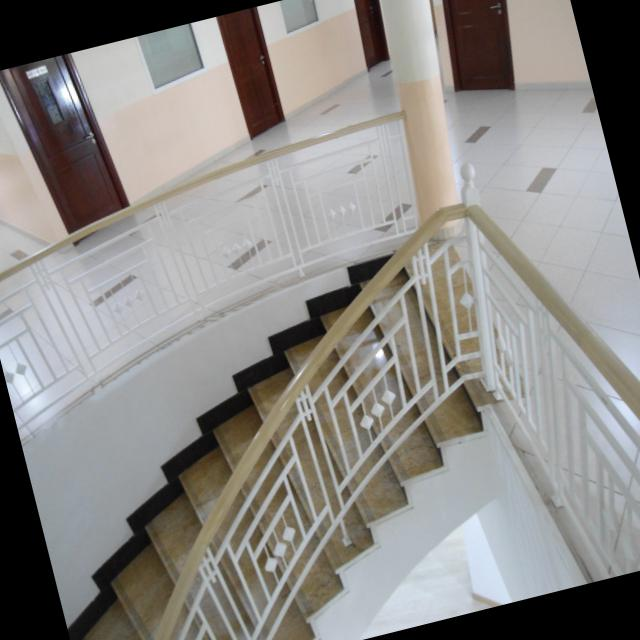door: (0, 46, 141, 260), (423, 0, 539, 106), (220, 6, 292, 145), (348, 0, 398, 75)
pillar: (367, 0, 483, 219)
railing: (32, 200, 558, 640), (0, 99, 457, 445), (443, 138, 640, 593)
stairs: (0, 220, 547, 640)
wall: (66, 14, 261, 210), (0, 63, 70, 268), (258, 0, 377, 117), (480, 0, 590, 101)
